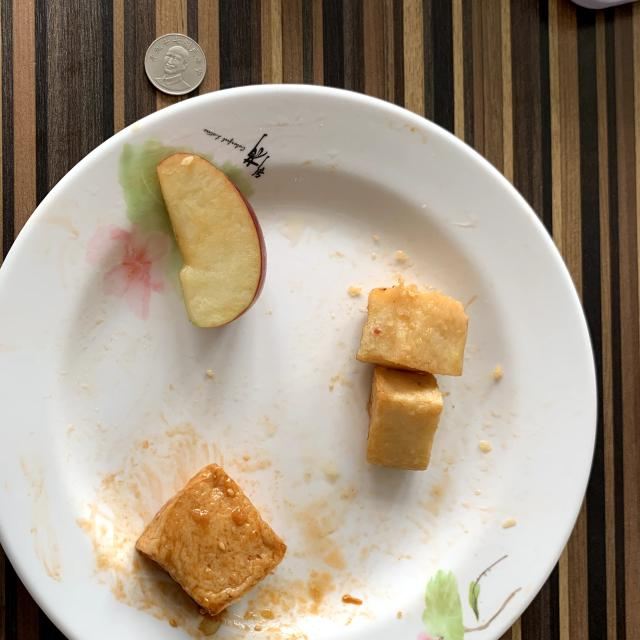apple -sliced-: (158, 152, 266, 328)
coin: (145, 34, 206, 95)
creamy tofu: (136, 464, 286, 616)
fried potato: (356, 279, 469, 470)
